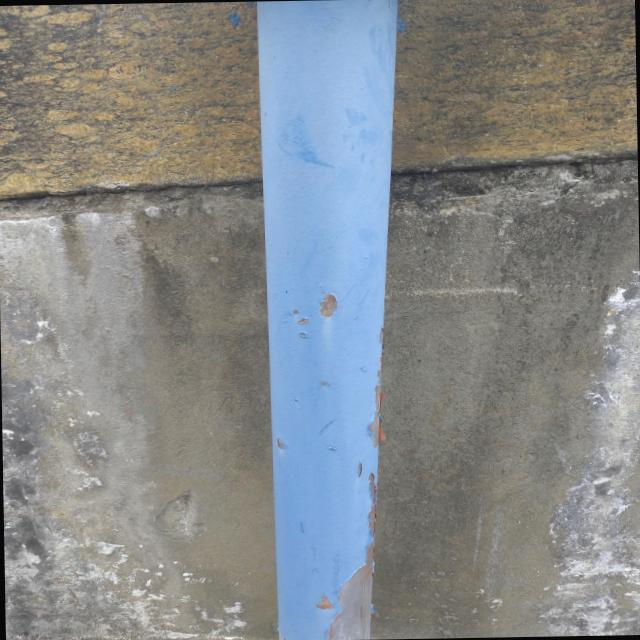gas: (247, 0, 408, 640)
